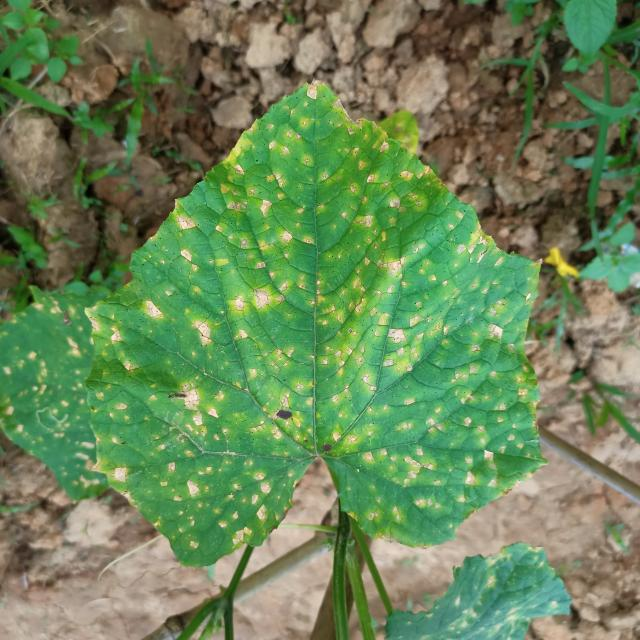disease_cucumber: (100, 113, 536, 545), (0, 293, 108, 499)
